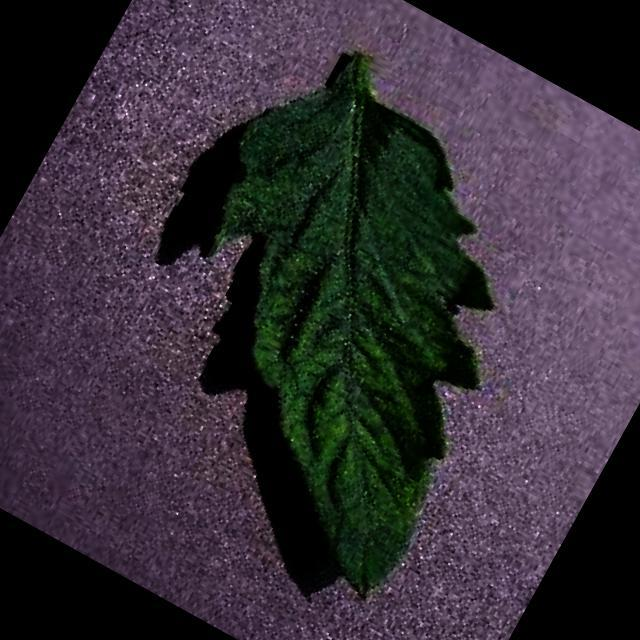Tomato mosaic virus leaf: (66, 43, 596, 612)
